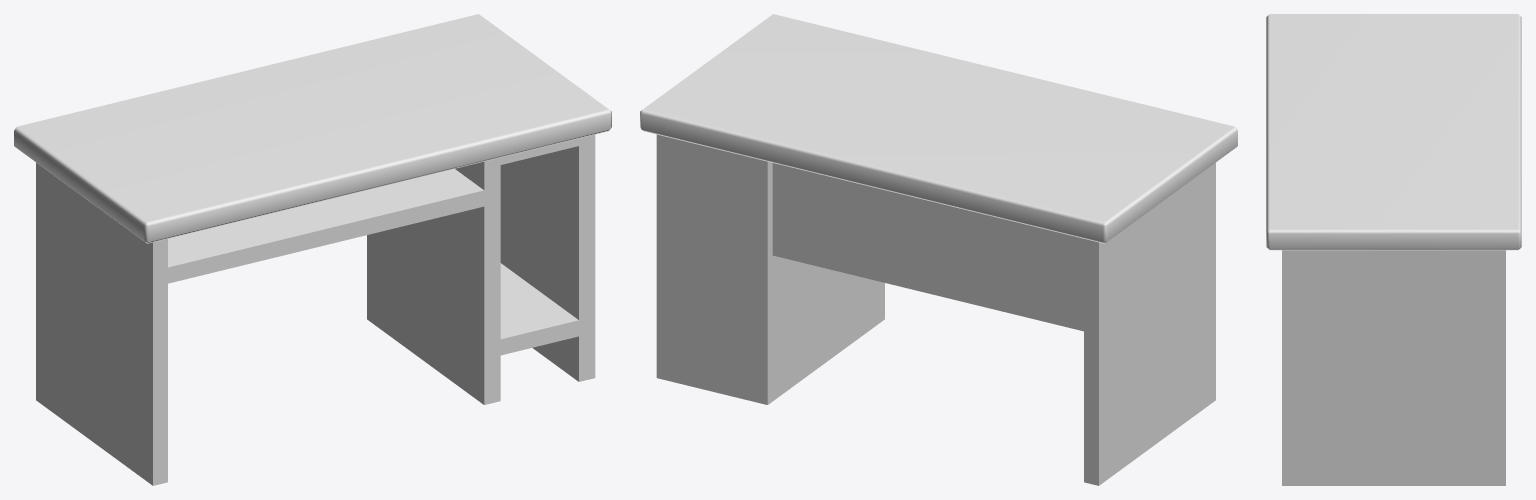
The model's file is work_table_016.fbx.
The picture shows the model from 3 angles, left to right: view 1: azimuth 30°, elevation 25°; view 2: azimuth 150°, elevation 25°; view 3: azimuth 270°, elevation 25°; orthographic projection. The views are drawn at different scales.
Visible parts, largest first — view 1: work_table_016; view 2: work_table_016; view 3: work_table_016.
Boxes of the visible parts, x1,y1,x2,y2 form: work_table_016: (14, 14, 611, 485); work_table_016: (640, 14, 1237, 485); work_table_016: (1266, 14, 1521, 485).
Size of the model in its own units: 165 by 81.5 by 91.5.
